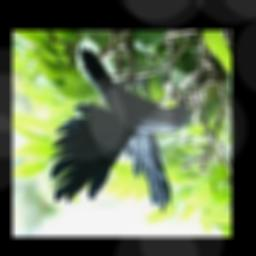Crow: (50, 46, 189, 213)
